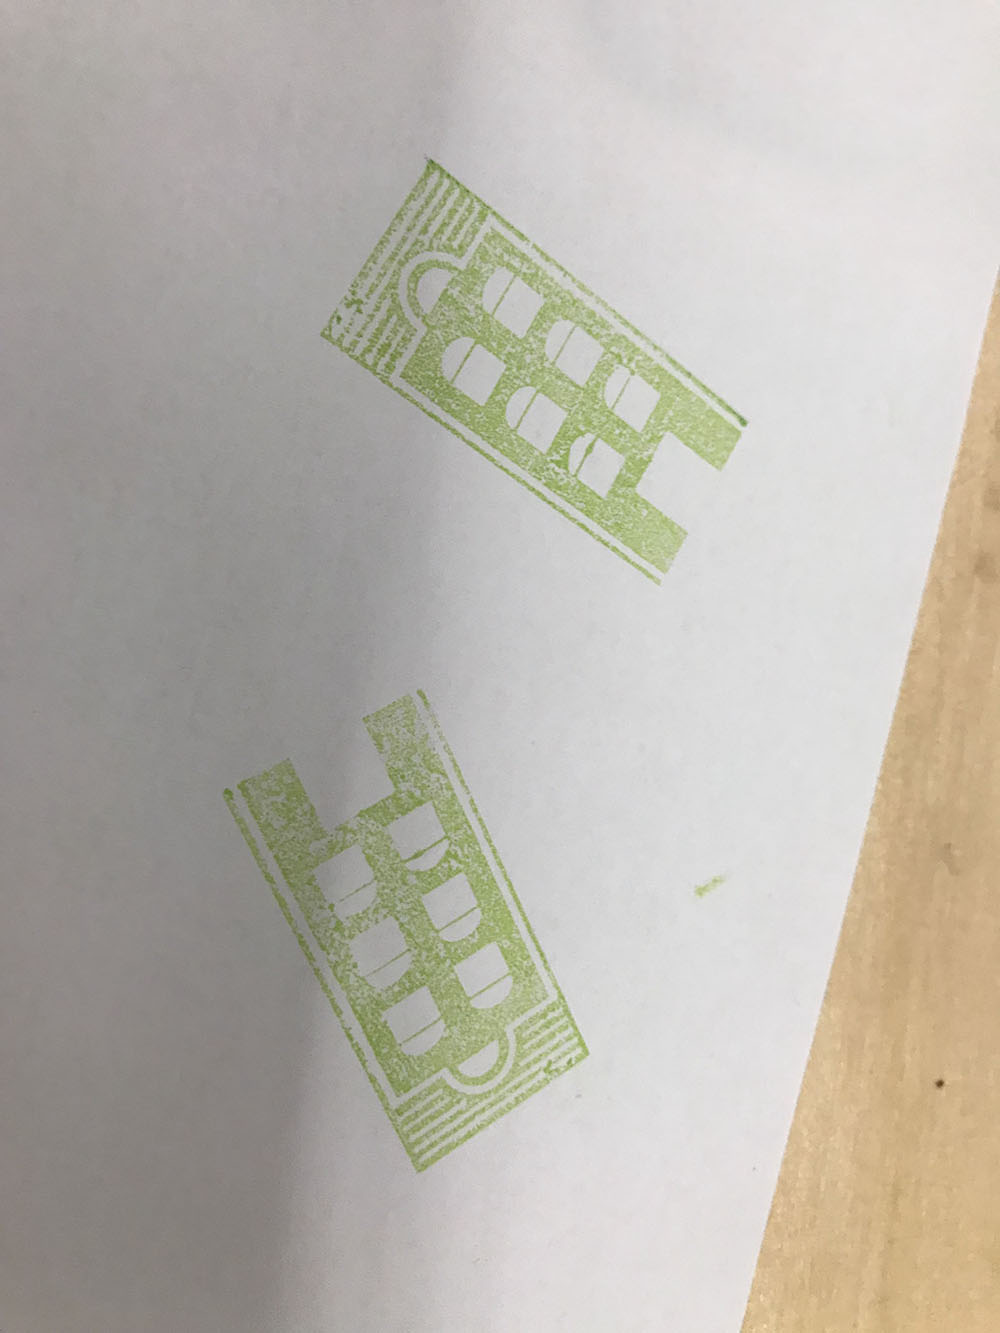build: (286, 138, 764, 608), (181, 688, 625, 1189)
